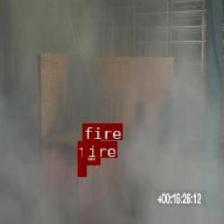fire: (82, 140, 100, 164), (76, 158, 86, 176)
